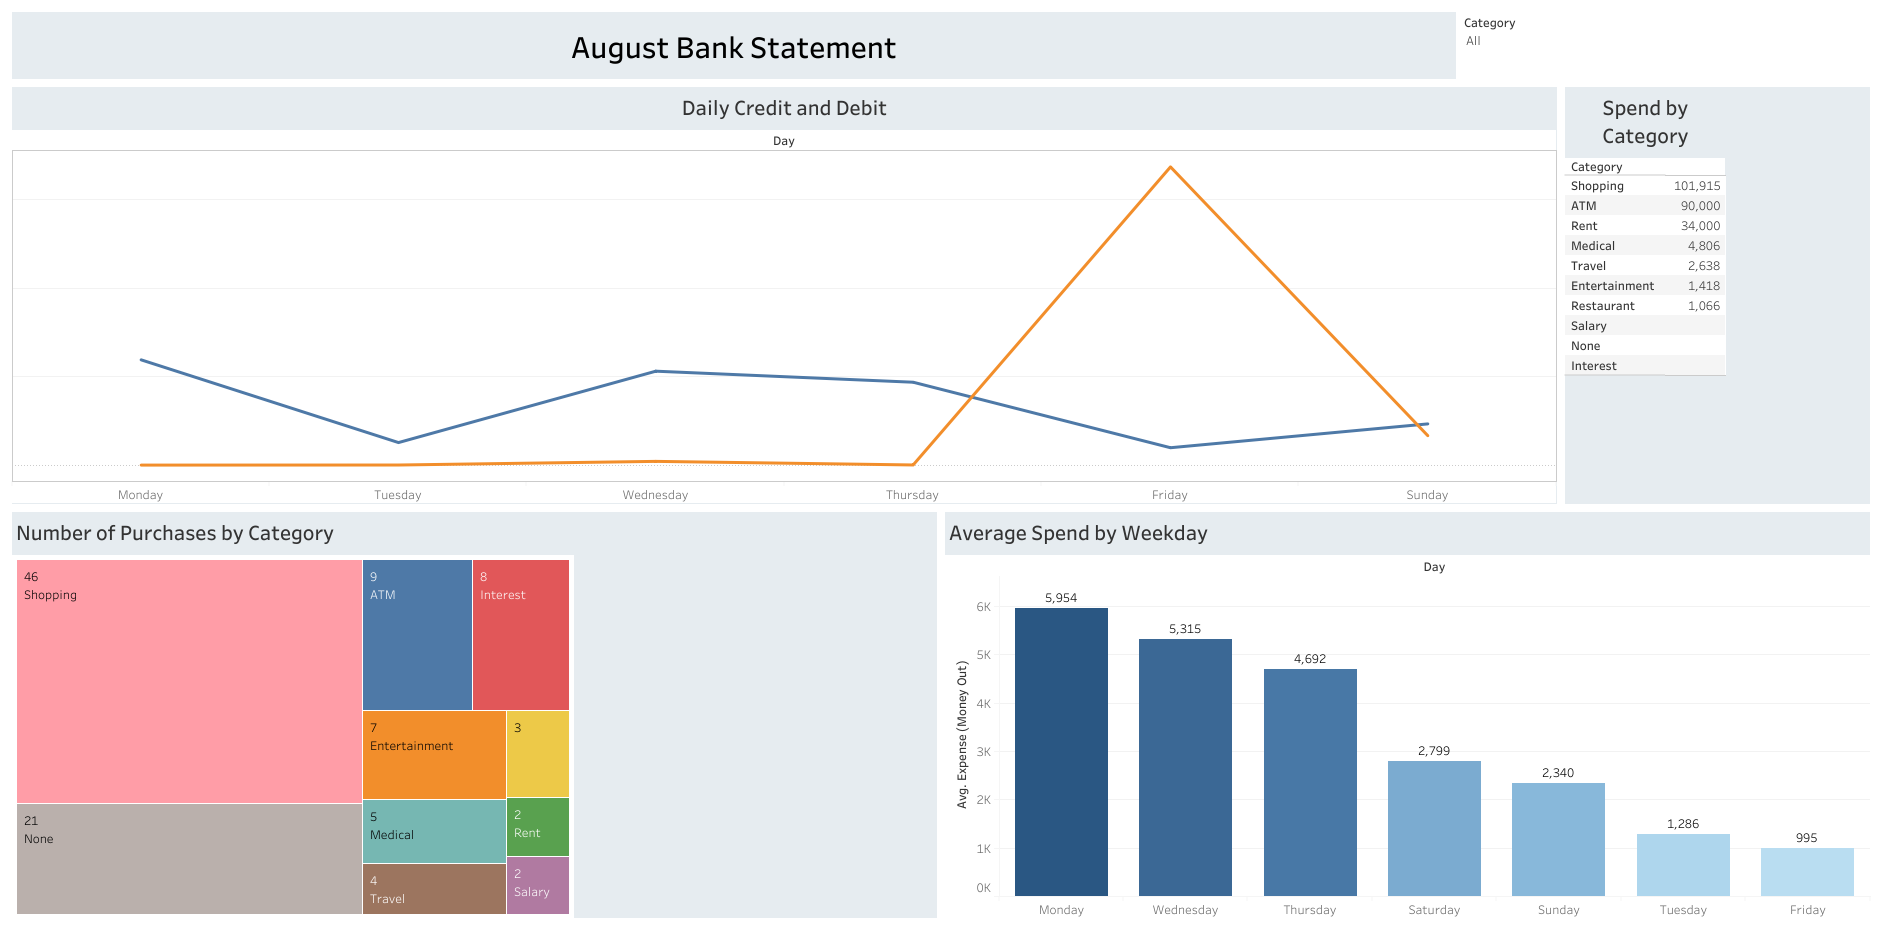

What the dashboard file says about the page in this screenshot:
{"tool":"tableau","page":{"name":"Dashboard 1","canvas":[1000,1000],"units":"permille","ordinal":0},"visuals":[{"type":"text","box":[6.9,14.1,767.6,79.5]},{"type":"filter","title":"Sheet 4","param":"[federated.1btgrej0p5e7b11ga9wwr1fiystq].[none:Category:nk]","box":[774.5,14.1,218.6,79.5]},{"type":"worksheet","title":"Sheet 5","mark":"Line","rows":["Expense (Money Out)","Income (Money In )"],"cols":["Day"],"box":[6.9,93.6,820.8,452.3]},{"type":"worksheet","title":"Sheet 6","mark":"Automatic","rows":["Category"],"box":[827.7,93.6,165.4,452.3]},{"type":"worksheet","title":"Sheet 4","mark":"Automatic","box":[6.9,545.9,493.1,439.9]},{"type":"worksheet","title":"Sheet 2","mark":"Automatic","rows":["Expense (Money Out)"],"cols":["Day"],"box":[500,545.9,493.1,439.9]}]}

Visuals, with their boxes on the dashboard's canvas, which has no fixed pixel size, in thousandths of its width and height (x1, y1, x2, y2). These are canvas units, not pixel positions in the 1881x929 screenshot, which may show the page scaled, cropped or inside an application window:
text: x1=7, y1=14, x2=774, y2=94
"Sheet 4" filter: x1=774, y1=14, x2=993, y2=94
"Sheet 5" worksheet (Line marks): x1=7, y1=94, x2=828, y2=546
"Sheet 6" worksheet: x1=828, y1=94, x2=993, y2=546
"Sheet 4" worksheet: x1=7, y1=546, x2=500, y2=986
"Sheet 2" worksheet: x1=500, y1=546, x2=993, y2=986
